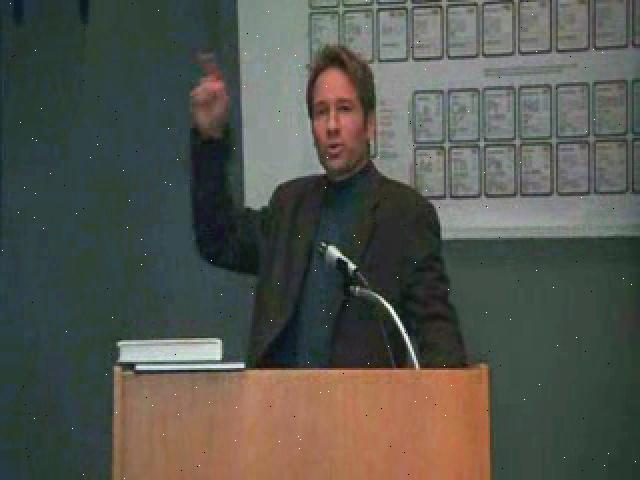T: (172, 37, 466, 373)
